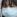with_mask: (1, 2, 17, 17)
